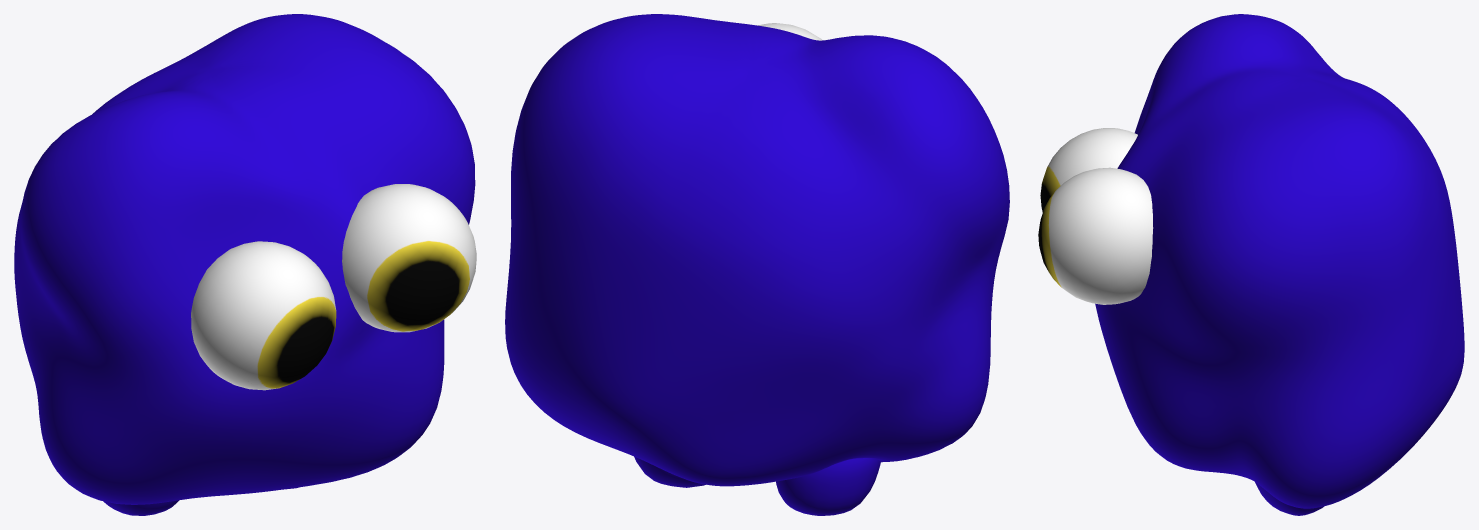
3 views of the same model, side by side, from view 1: azimuth 30°, elevation 25°; view 2: azimuth 150°, elevation 25°; view 3: azimuth 270°, elevation 25° (orthographic). The views are drawn at different scales.
Visible parts, largest first — view 1: BODY.002, L EYE.004, L EYE.006; view 2: BODY.002; view 3: BODY.002, L EYE.006, L EYE.004.
Boxes of the visible parts, bbox=[...] form: BODY.002: bbox=[14, 14, 475, 515]; L EYE.004: bbox=[191, 241, 336, 390]; L EYE.006: bbox=[342, 184, 476, 332]; BODY.002: bbox=[505, 14, 1009, 515]; BODY.002: bbox=[1095, 14, 1464, 515]; L EYE.006: bbox=[1038, 167, 1153, 304]; L EYE.004: bbox=[1040, 128, 1137, 212].
Size of the model in its own units: 1.88 by 1.84 by 1.74.
Materials: 2 (1 with a texture image).
